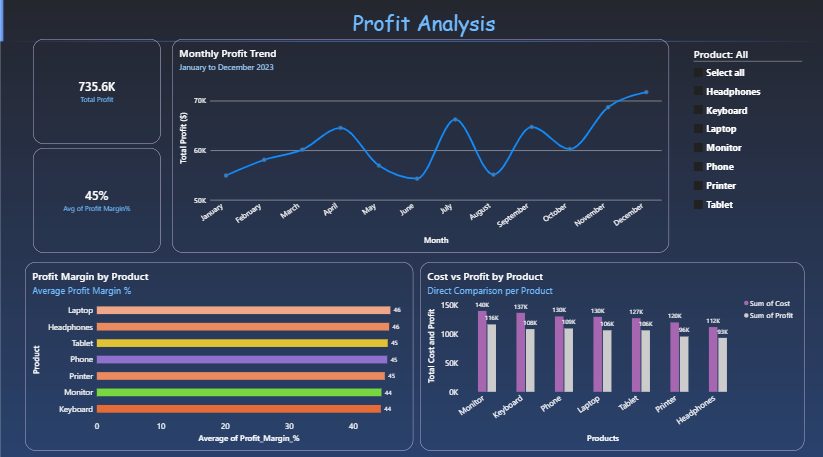

This screenshot's page, from the dashboard's own definition file:
{"tool":"powerbi","page":{"name":"Profit Analysis","canvas":[1920,1080],"ordinal":4},"visuals":[{"type":"cardVisual","fields":{"Data":["Sum(Sheet1 (2).Profit)"]},"box":[77.8,91.7,297.2,244.4],"z":0},{"type":"cardVisual","fields":{"Data":["Avg(Sheet1 (2).Profit_Margin_%)"]},"box":[77.8,344.4,297.2,244.4],"z":1},{"type":"clusteredBarChart","title":"Profit Margin by Product","fields":{"Category":["Sheet1 (2).Product"],"Y":["Avg(Sheet1 (2).Profit_Margin_%)"]},"box":[58.3,608.3,902.8,438.9],"z":2},{"type":"lineChart","title":"Monthly Profit Trend","fields":{"Category":["Sheet1 (2).Month"],"Y":["Sum(Sheet1 (2).Profit)"]},"box":[400,91.7,1155.6,497.2],"z":3},{"type":"clusteredColumnChart","title":"Cost vs Profit by Product","fields":{"Category":["Sheet1 (2).Product"],"Y":["Sum(Sheet1 (2).Cost)","Sum(Sheet1 (2).Profit)"]},"box":[977.8,608.3,894.4,438.9],"z":4},{"type":"slicer","fields":{"Values":["Sheet1 (2).Product"]},"box":[1594.4,100,277.8,416.7],"z":5},{"type":"textbox","box":[100,19.4,1772.2,72.2],"z":6}]}

Visuals, with their boxes in screenshot pixels (x1, y1, x2, y2), scaled from the page's 1920x1080 canvas onto the 823x457 screenshot:
cardVisual - Sum(Sheet1 (2).Profit): pyautogui.locateOnScreen(33, 39, 161, 142)
cardVisual - Avg(Sheet1 (2).Profit_Margin_%): pyautogui.locateOnScreen(33, 146, 161, 249)
"Profit Margin by Product" clusteredBarChart: pyautogui.locateOnScreen(25, 257, 412, 443)
"Monthly Profit Trend" lineChart: pyautogui.locateOnScreen(171, 39, 667, 249)
"Cost vs Profit by Product" clusteredColumnChart: pyautogui.locateOnScreen(419, 257, 803, 443)
slicer - Sheet1 (2).Product: pyautogui.locateOnScreen(683, 42, 803, 219)
textbox: pyautogui.locateOnScreen(43, 8, 803, 39)
